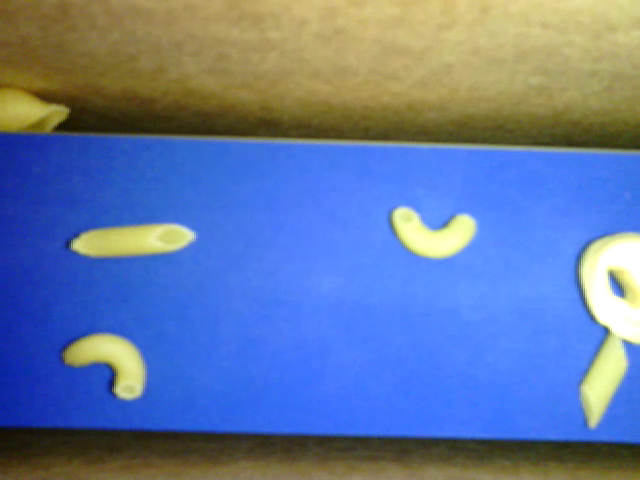elbow: (57, 330, 152, 397), (388, 202, 479, 259)
penne: (575, 324, 627, 429), (69, 221, 195, 263)
shell: (1, 81, 69, 132)
tortellini: (579, 230, 639, 347)
